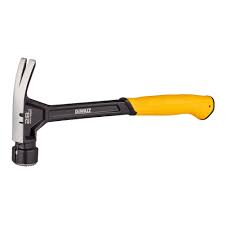hammer: (11, 56, 215, 166)
